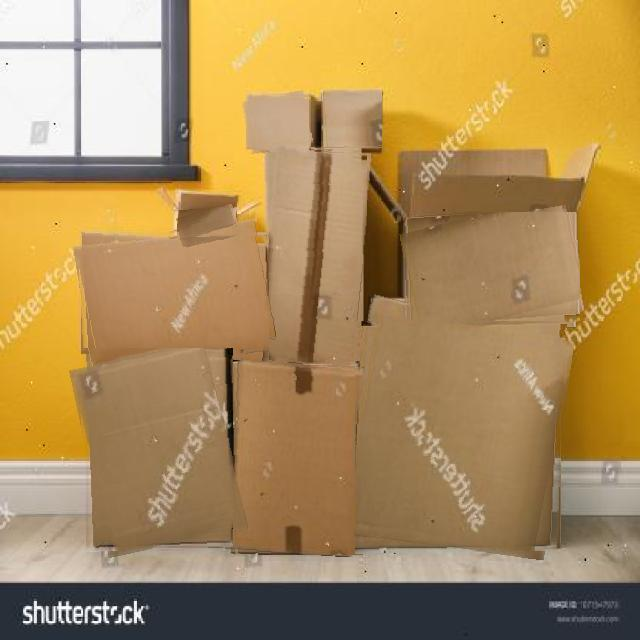BoxFace: (355, 321, 567, 554), (78, 348, 233, 552), (228, 360, 363, 555), (76, 225, 269, 361), (261, 146, 367, 362), (403, 212, 580, 334), (244, 93, 311, 152), (323, 90, 382, 148), (177, 207, 237, 238), (368, 296, 407, 329)
